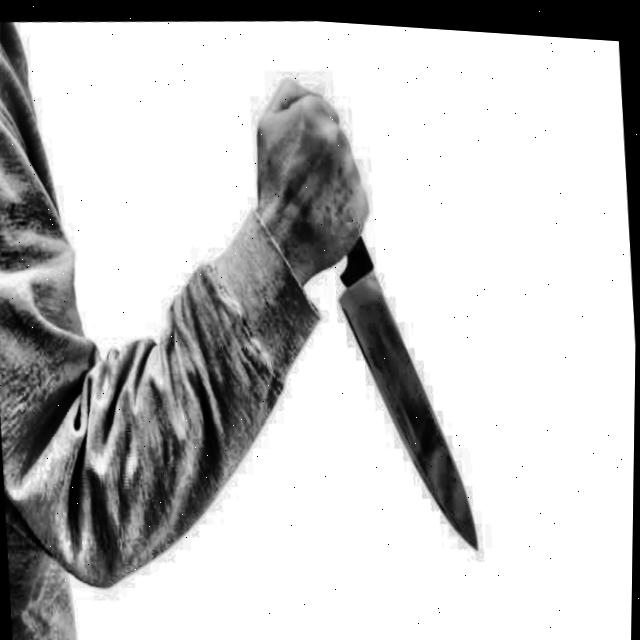pisau: (248, 84, 496, 579)
